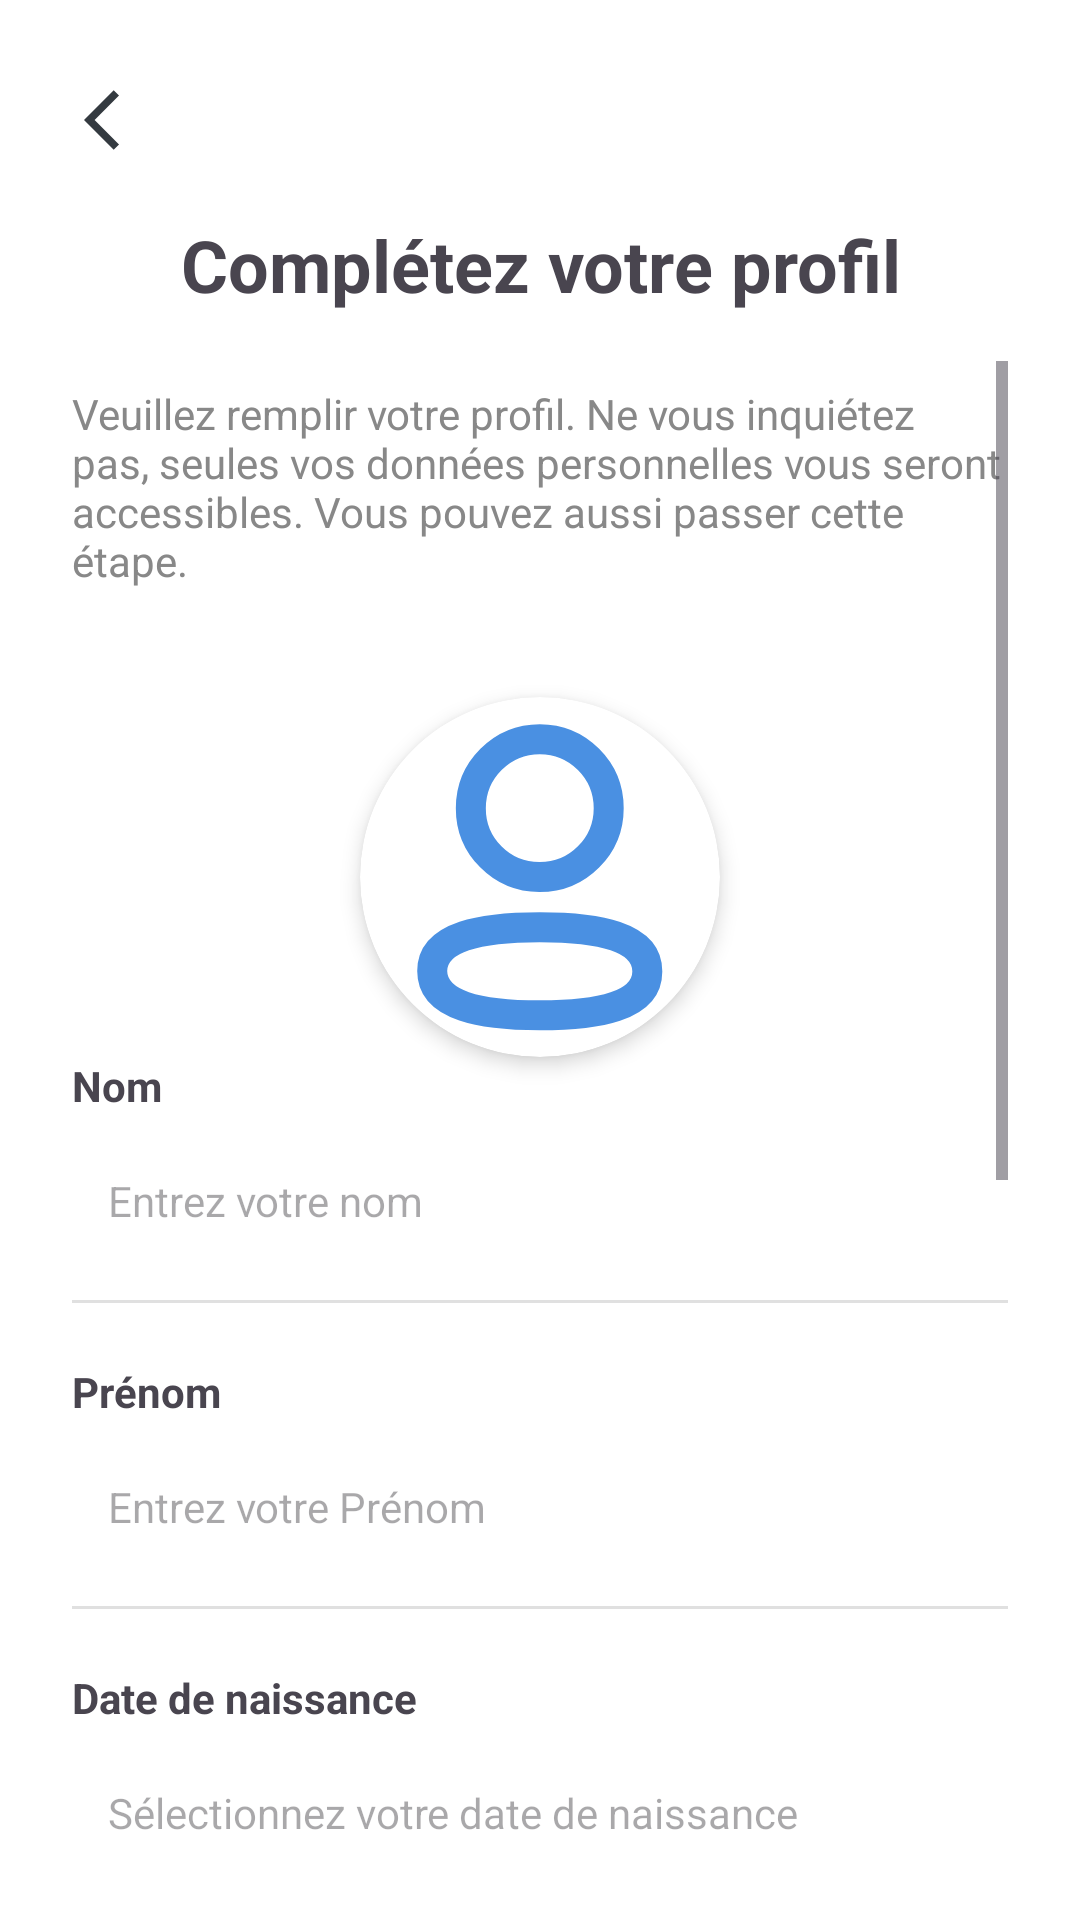

Where to tap for icons on this 1080px x 1920px app screen, as point (x, y):
back: point (101, 120)
Photo de profil: point (540, 890)
